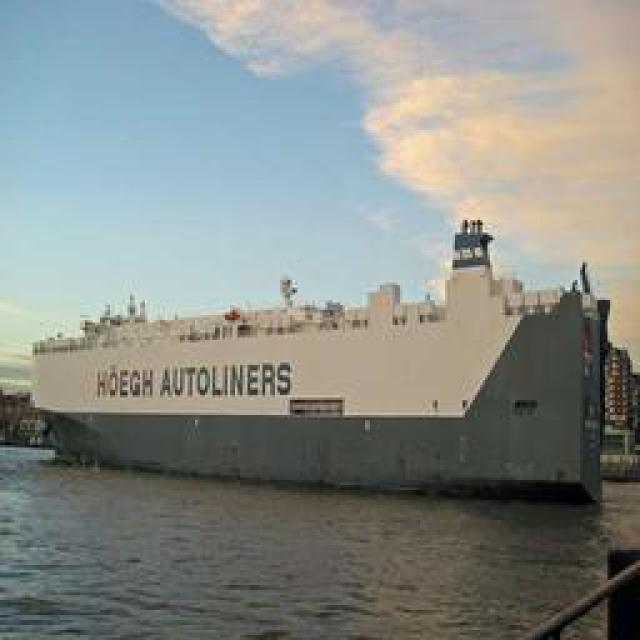Ship: (33, 196, 640, 479)
